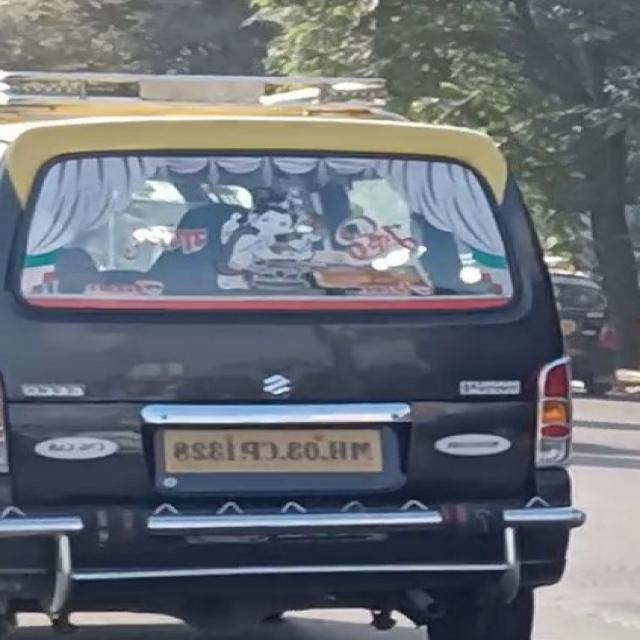license_plate: (158, 423, 389, 480)
